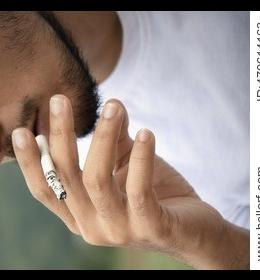Cigarette: (34, 133, 66, 200)
